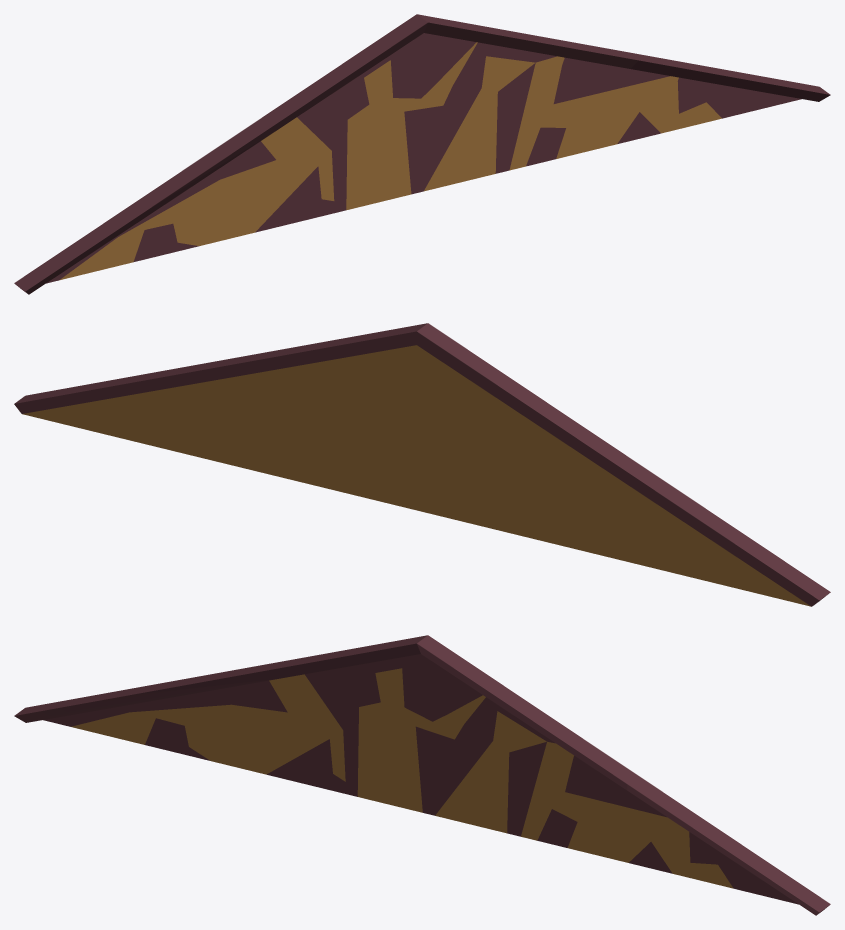
The model's file is SM_Wall_Vertical_Symbol_6m_Empire.fbx.
The picture shows the model from 3 angles, top to bottom: view 1: azimuth 30°, elevation 25°; view 2: azimuth 150°, elevation 25°; view 3: azimuth 330°, elevation 25°; orthographic projection.
Visible parts, largest first — view 1: SM_Wall_Vertical_Symbol_6m_Empire; view 2: SM_Wall_Vertical_Symbol_6m_Empire; view 3: SM_Wall_Vertical_Symbol_6m_Empire.
Boxes of the visible parts, x1=… form: SM_Wall_Vertical_Symbol_6m_Empire: x1=14, y1=14, x2=830, y2=294; SM_Wall_Vertical_Symbol_6m_Empire: x1=14, y1=323, x2=830, y2=606; SM_Wall_Vertical_Symbol_6m_Empire: x1=14, y1=635, x2=830, y2=915.
Size of the model in its own units: 6.12 by 1.3 by 0.1502.
